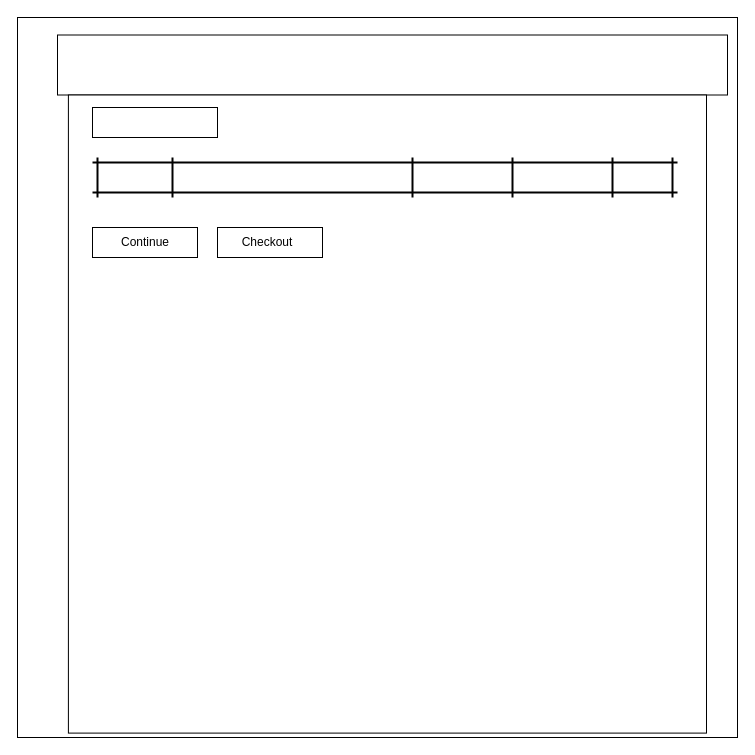
Image size: 755x755. Some labels were removed from this diagram. The centre of each missing label's shape, as x and y in pixels:
Navbar: (392,64)
Order Summary: (155,122)
